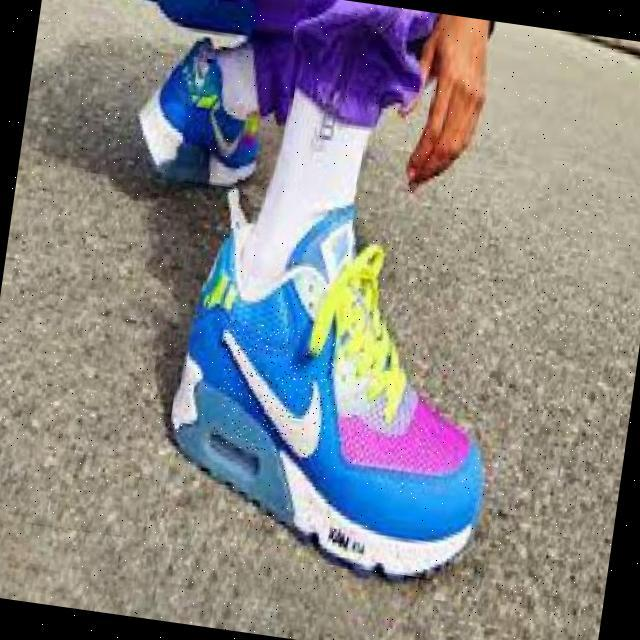Nike: (208, 319, 338, 460)
